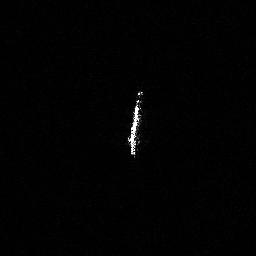ship: (123, 87, 148, 160)
